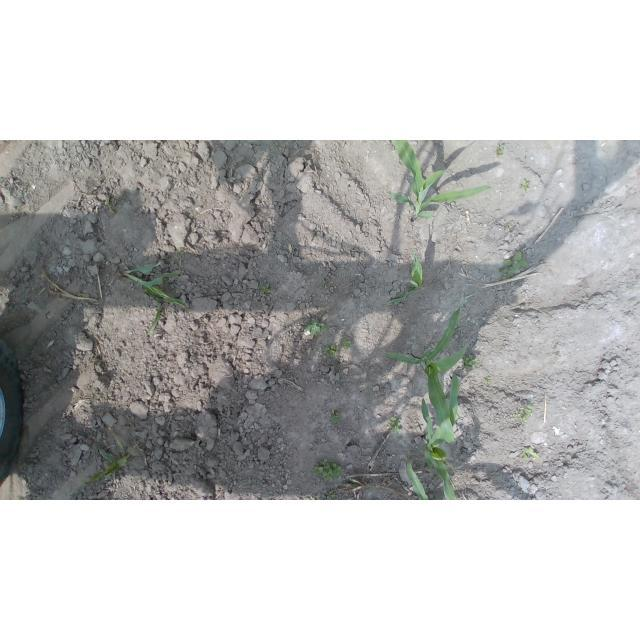Maize: (383, 294, 473, 443), (388, 141, 491, 220), (421, 370, 460, 500), (121, 260, 187, 333), (82, 426, 139, 484), (386, 250, 423, 307), (406, 456, 441, 500)
Weeds: (500, 253, 527, 280), (313, 459, 342, 482), (305, 318, 328, 338), (515, 404, 534, 424), (461, 353, 479, 371), (386, 416, 402, 434), (521, 447, 540, 461), (326, 345, 339, 358), (330, 409, 340, 423), (259, 284, 271, 295), (341, 339, 352, 350), (496, 143, 504, 158), (519, 179, 529, 189), (325, 492, 335, 501), (484, 376, 492, 386), (105, 198, 112, 207), (177, 247, 184, 255), (322, 280, 328, 289), (351, 484, 358, 489), (504, 226, 509, 231), (98, 440, 103, 445), (190, 213, 195, 217), (311, 496, 316, 500)
